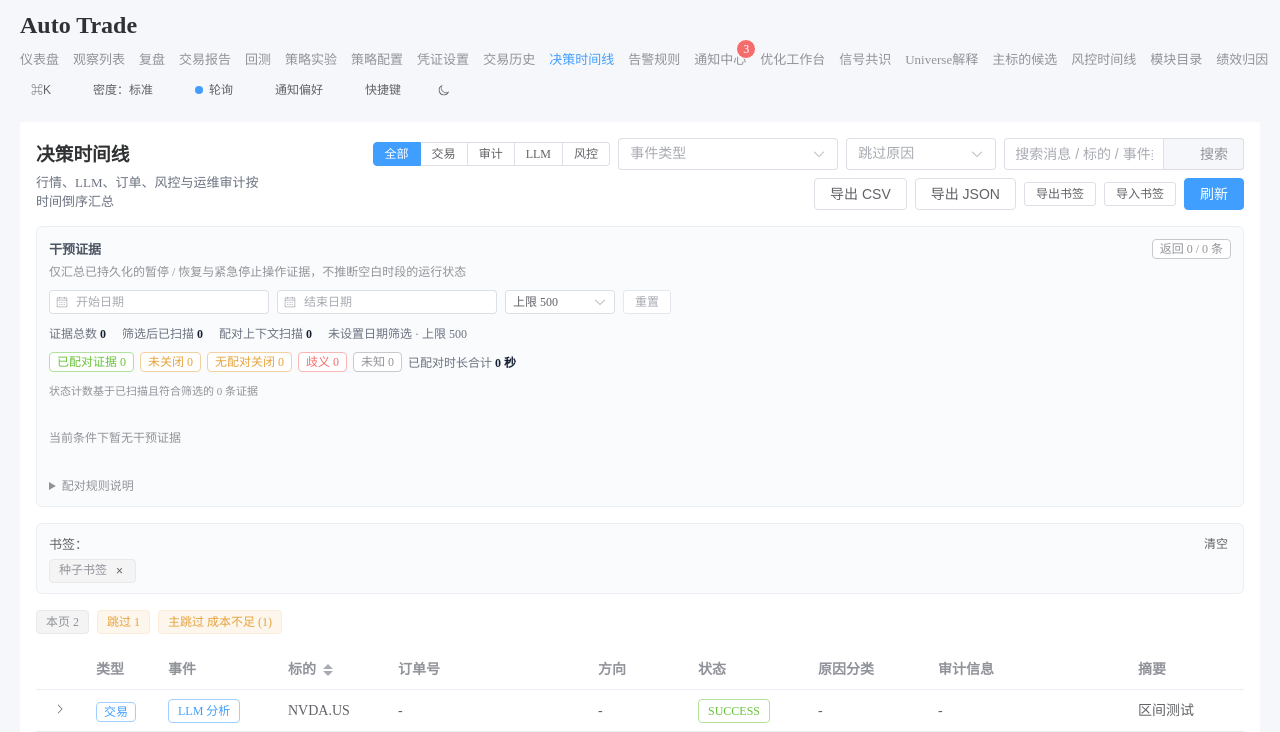
Test: Decision Timeline Bookmarks JSON Import/Export › keeps the applied bookmark visually active
The image size is (1280, 732).
What coordinates should you click on to do the following:
click the text "种子书签"
I would click on:
 (83, 570)
Its box is left=59, top=563, right=107, bottom=577.
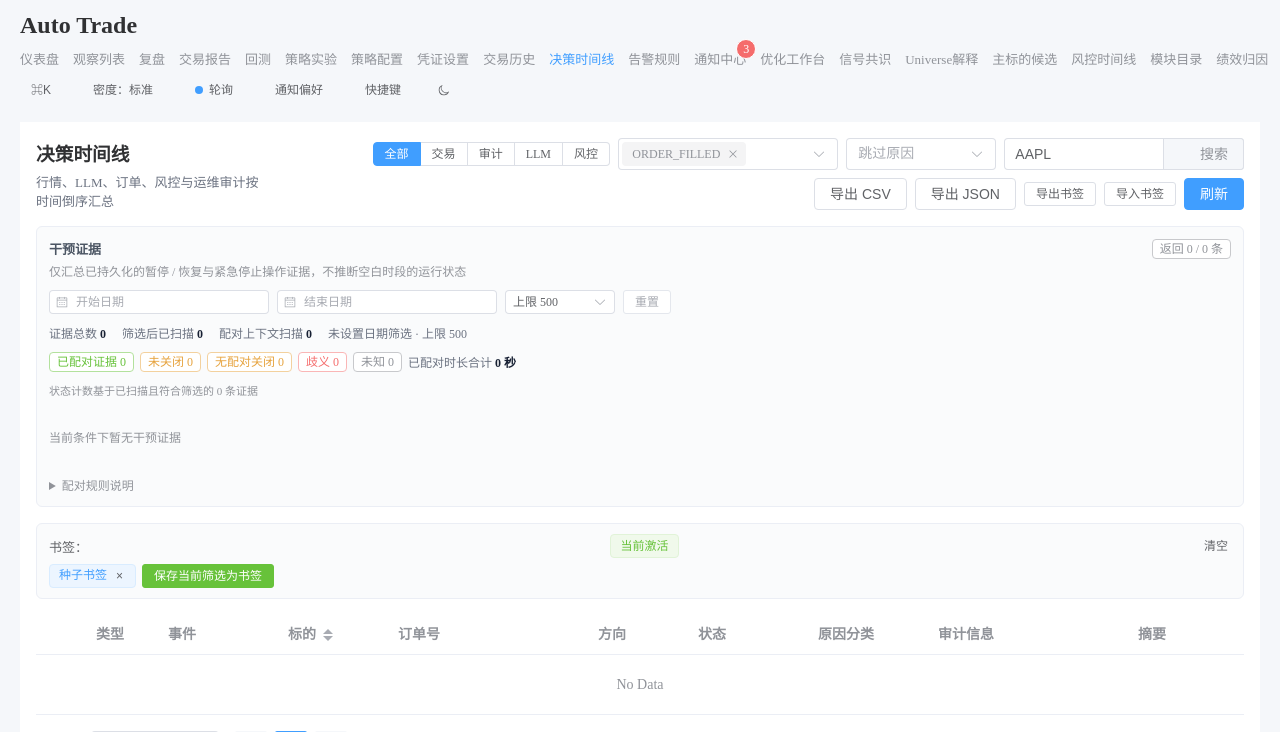
Result: the element with test id "timeline-active-bookmark" is shown at left=611, top=534, right=679, bottom=558
